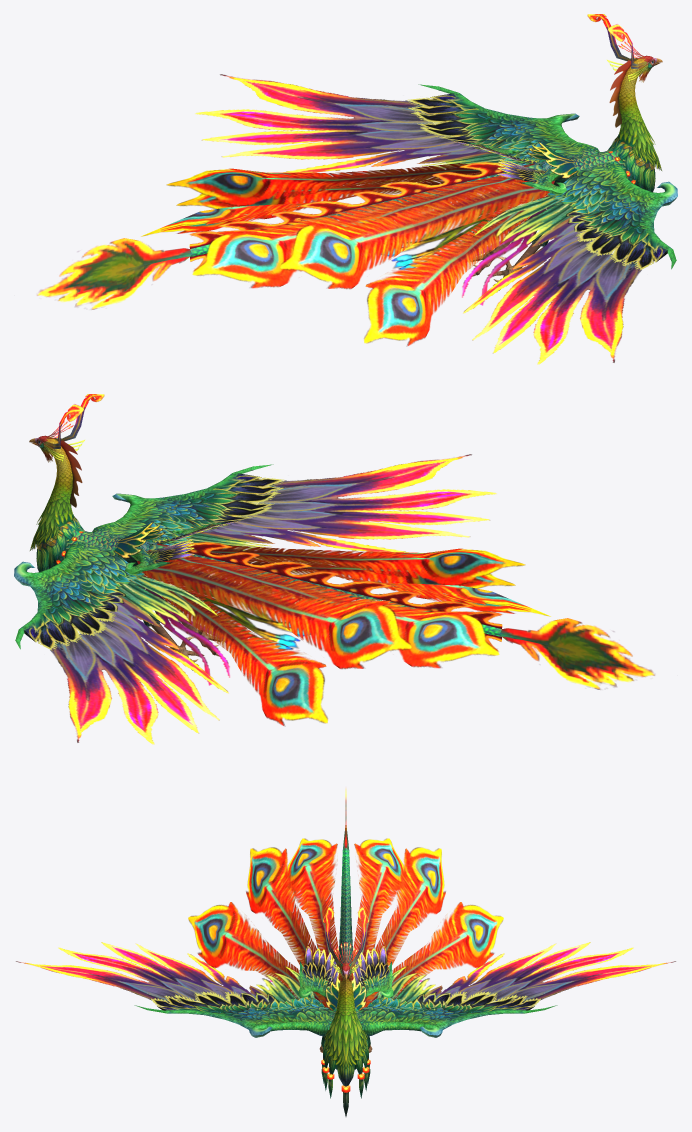
Rendered from baby_teen_phoenix.glb.
3 renders of one model, top to bottom at view 1: azimuth 30°, elevation 25°; view 2: azimuth 150°, elevation 25°; view 3: azimuth 270°, elevation 25°, orthographic. The views are drawn at different scales.
Visible parts, largest first — view 1: AMesh_Ride_FengHuang_01_MatI_Ride_FengHuang_01b_0, AMesh_Ride_FengHuang_01_MatI_Ride_FengHuang_01a_0; view 2: AMesh_Ride_FengHuang_01_MatI_Ride_FengHuang_01b_0, AMesh_Ride_FengHuang_01_MatI_Ride_FengHuang_01a_0; view 3: AMesh_Ride_FengHuang_01_MatI_Ride_FengHuang_01b_0, AMesh_Ride_FengHuang_01_MatI_Ride_FengHuang_01a_0.
Part boxes in pixels (<box>): AMesh_Ride_FengHuang_01_MatI_Ride_FengHuang_01b_0: <box>141,74,677,364</box>; AMesh_Ride_FengHuang_01_MatI_Ride_FengHuang_01a_0: <box>37,14,662,309</box>; AMesh_Ride_FengHuang_01_MatI_Ride_FengHuang_01b_0: <box>14,454,550,744</box>; AMesh_Ride_FengHuang_01_MatI_Ride_FengHuang_01a_0: <box>29,394,654,689</box>; AMesh_Ride_FengHuang_01_MatI_Ride_FengHuang_01b_0: <box>16,838,675,1037</box>; AMesh_Ride_FengHuang_01_MatI_Ride_FengHuang_01a_0: <box>319,788,372,1116</box>.
Size of the model in its own units: 9.12 by 3.17 by 9.64.
2 materials, 2 textured.
